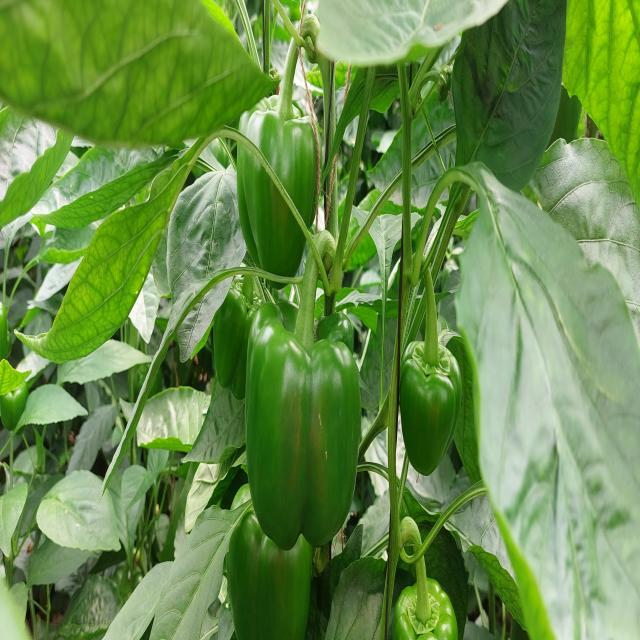Green--Not-ready-to-harvest: (245, 283, 362, 546), (234, 94, 320, 266), (402, 334, 466, 480)
